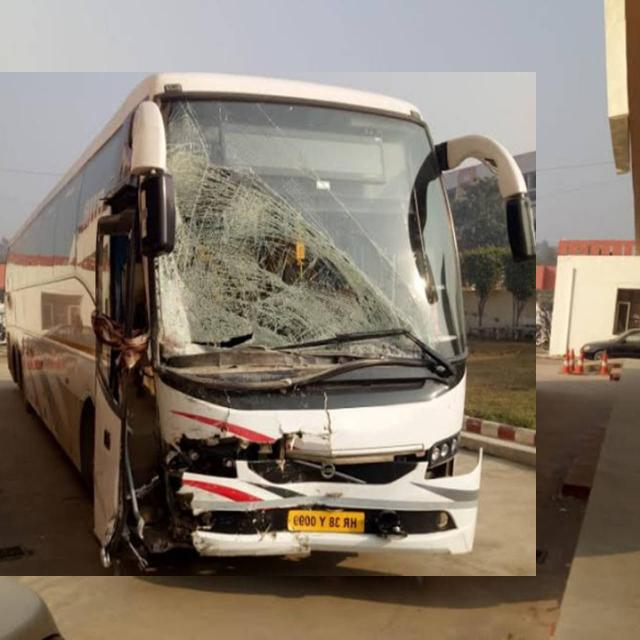accident: (0, 73, 536, 576)
car: (581, 329, 640, 360)
